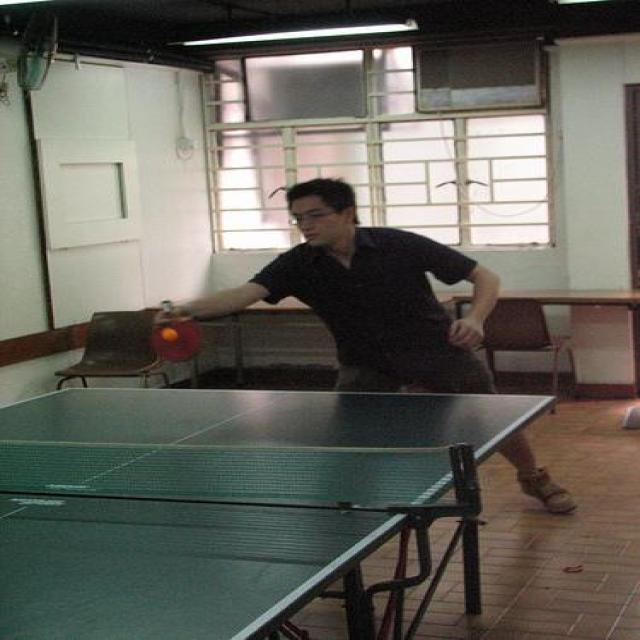ping-pong-ball: (160, 328, 178, 342)
